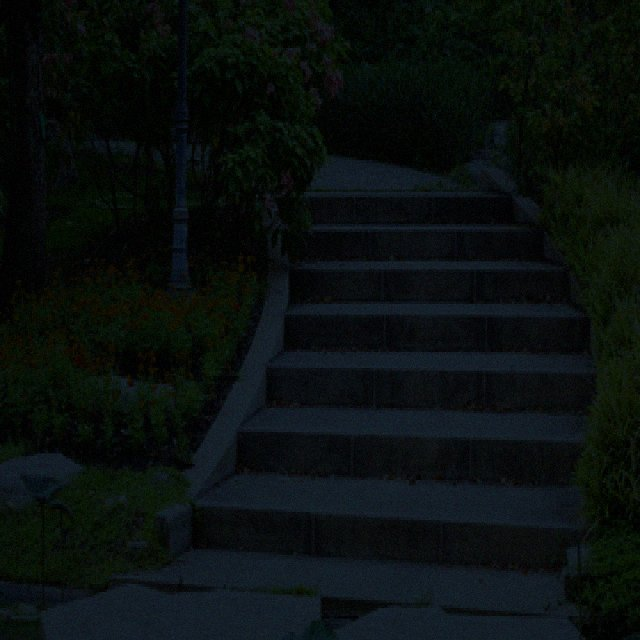stair: (200, 192, 593, 565)
